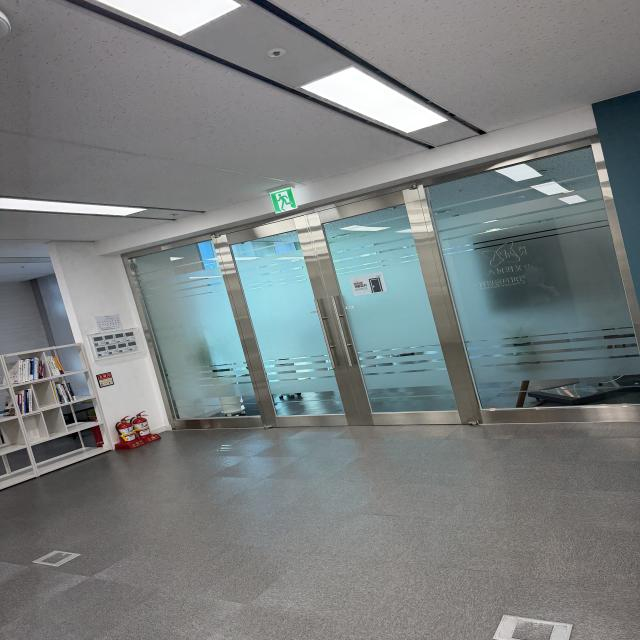front_door: (124, 132, 639, 432)
